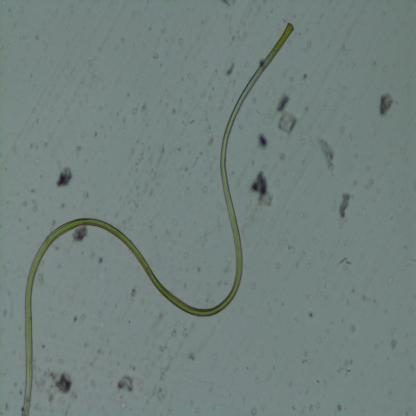Anthropogenic: (17, 23, 294, 416)
Background material: (250, 169, 274, 205), (318, 137, 336, 173), (53, 370, 74, 394), (54, 166, 76, 188), (277, 113, 299, 134), (34, 364, 48, 393), (338, 192, 352, 221), (379, 92, 394, 116), (118, 375, 135, 396), (148, 311, 164, 333), (71, 225, 89, 243), (159, 360, 173, 381), (154, 385, 168, 402), (225, 58, 236, 79), (336, 256, 351, 271), (256, 133, 270, 149), (144, 165, 157, 181), (43, 367, 57, 381), (279, 96, 291, 112), (45, 383, 55, 400), (201, 135, 214, 148), (0, 400, 12, 414), (190, 154, 200, 168), (135, 152, 144, 166), (181, 118, 195, 126), (131, 285, 139, 298), (158, 145, 167, 156), (181, 326, 190, 337), (31, 199, 38, 213), (279, 150, 287, 162), (120, 216, 133, 223), (301, 350, 307, 365), (34, 401, 42, 412), (222, 0, 236, 6), (54, 238, 61, 250), (306, 309, 315, 318), (95, 347, 104, 356), (344, 358, 353, 367), (214, 202, 223, 211), (390, 340, 398, 350), (50, 219, 57, 230), (176, 146, 185, 154), (200, 60, 208, 69), (149, 220, 155, 232), (39, 273, 45, 285), (236, 122, 244, 131), (89, 378, 96, 388), (251, 406, 258, 416), (208, 383, 214, 394), (320, 247, 326, 258), (130, 107, 138, 115), (228, 77, 236, 85), (132, 201, 140, 209), (188, 355, 196, 363), (193, 406, 201, 414), (249, 281, 257, 289), (170, 107, 177, 116), (159, 27, 168, 34), (121, 115, 128, 124), (21, 199, 28, 208), (387, 276, 394, 285), (306, 260, 312, 270), (90, 130, 98, 137), (185, 186, 192, 194), (140, 105, 147, 113), (207, 300, 214, 308), (348, 325, 356, 332), (156, 157, 161, 168), (314, 400, 320, 409), (159, 345, 168, 351), (82, 193, 89, 200), (151, 52, 159, 58), (120, 402, 126, 410), (304, 104, 310, 112), (338, 126, 344, 134), (301, 137, 306, 146), (76, 145, 82, 152), (61, 202, 68, 208), (203, 185, 209, 192), (403, 410, 410, 416), (314, 378, 320, 385), (345, 369, 351, 376), (306, 41, 312, 48), (339, 366, 344, 374), (73, 316, 78, 324), (214, 353, 219, 361), (252, 97, 257, 105), (337, 403, 342, 411), (40, 344, 46, 350), (362, 296, 368, 302), (349, 130, 352, 142), (302, 74, 308, 80), (276, 263, 281, 270), (81, 314, 86, 321), (45, 357, 52, 362), (98, 257, 103, 264), (131, 146, 135, 154), (37, 117, 41, 125), (388, 388, 392, 396), (369, 178, 373, 186), (342, 44, 346, 52), (309, 404, 313, 412), (346, 297, 350, 305), (188, 74, 193, 80), (171, 330, 176, 336), (366, 166, 371, 172), (351, 288, 356, 294), (289, 76, 294, 82), (352, 180, 357, 186), (121, 36, 125, 43), (213, 71, 218, 76), (30, 142, 35, 147), (223, 282, 228, 287), (281, 301, 286, 306), (292, 405, 297, 410), (403, 245, 408, 250), (158, 254, 161, 262), (4, 309, 8, 315), (373, 298, 377, 304), (176, 322, 180, 328), (32, 188, 36, 193), (179, 39, 183, 44), (208, 96, 212, 101), (184, 113, 188, 118), (197, 268, 202, 272), (200, 119, 204, 124), (317, 339, 321, 344), (322, 105, 326, 110), (127, 92, 130, 98), (324, 281, 326, 290), (20, 390, 23, 396), (355, 153, 358, 159), (232, 35, 235, 41), (211, 86, 215, 90), (220, 107, 224, 111), (148, 26, 152, 30), (372, 62, 376, 66), (384, 309, 388, 313), (208, 132, 211, 137), (209, 125, 212, 130)
